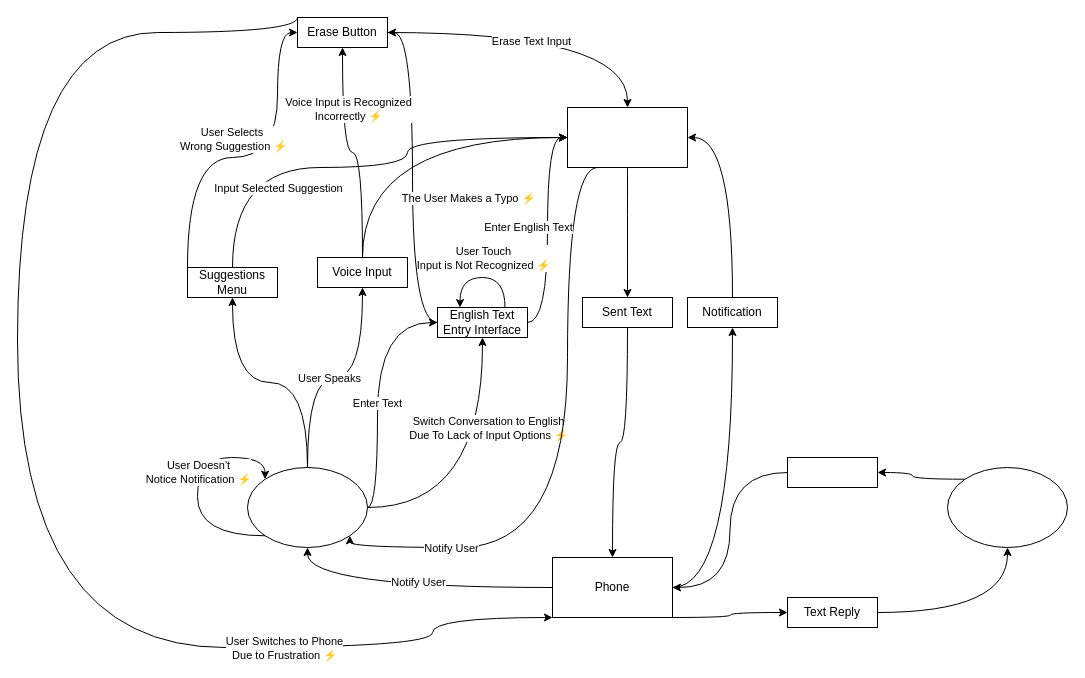
Some shapes in this 1085 by 678 pixel diagram are drawn without their labels. Here are the shapes that lost their labels. From the top down, the box of each, then its label:
(566, 106, 688, 168): Smartwatch
(786, 456, 878, 488): Text Message
(246, 466, 368, 548): User
(946, 466, 1068, 548): Friend
